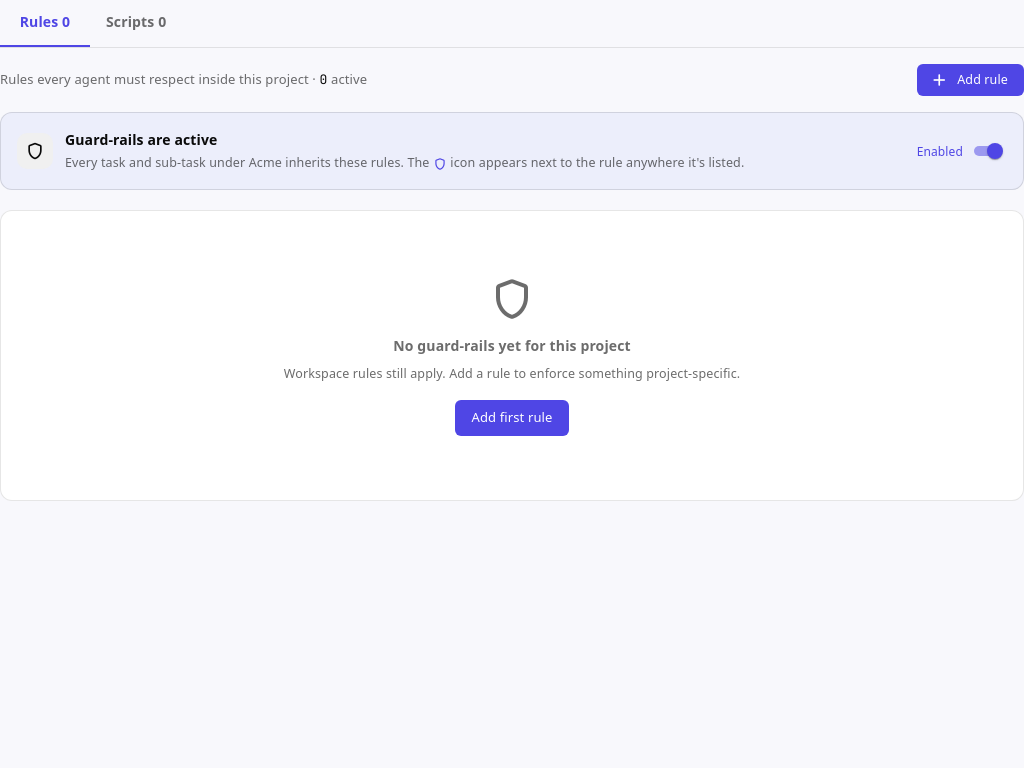
Test: ProjectGuardrailsBody — Add rule dialog › Add rule dialog submit button is disabled when title or body empty
Click the button "Add rule". click: click(971, 80)
box: top-left (917, 64), bottom-right (1023, 96)
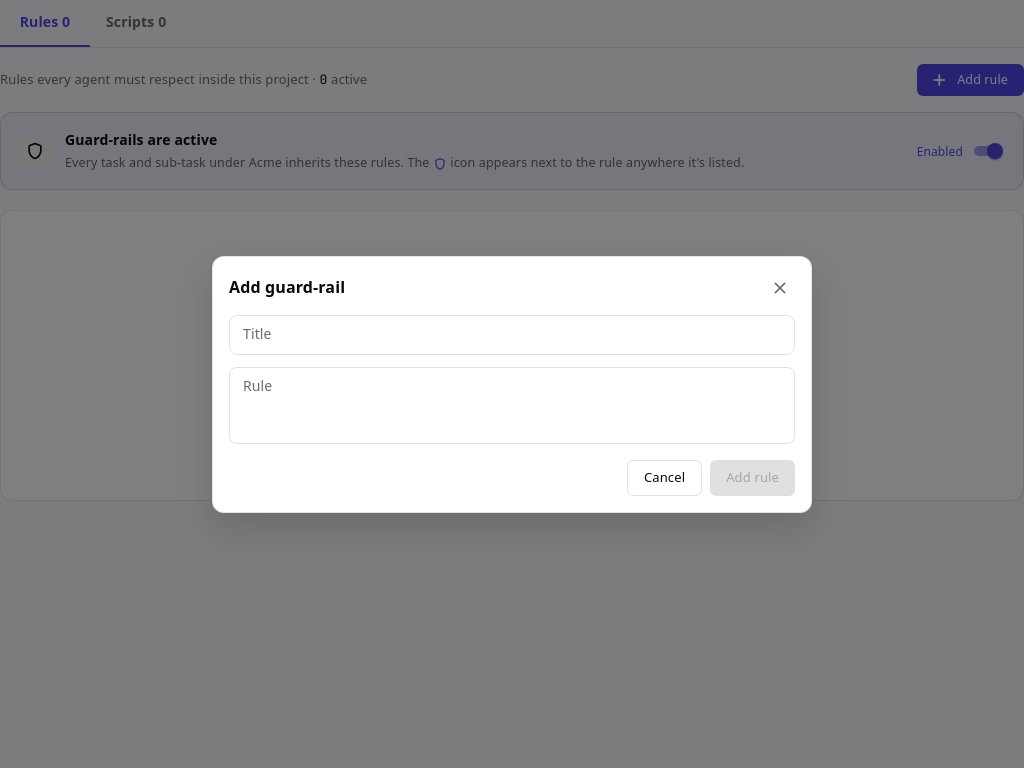
Now the button "Add rule" is disabled, box top-left (710, 460), bottom-right (795, 496)
